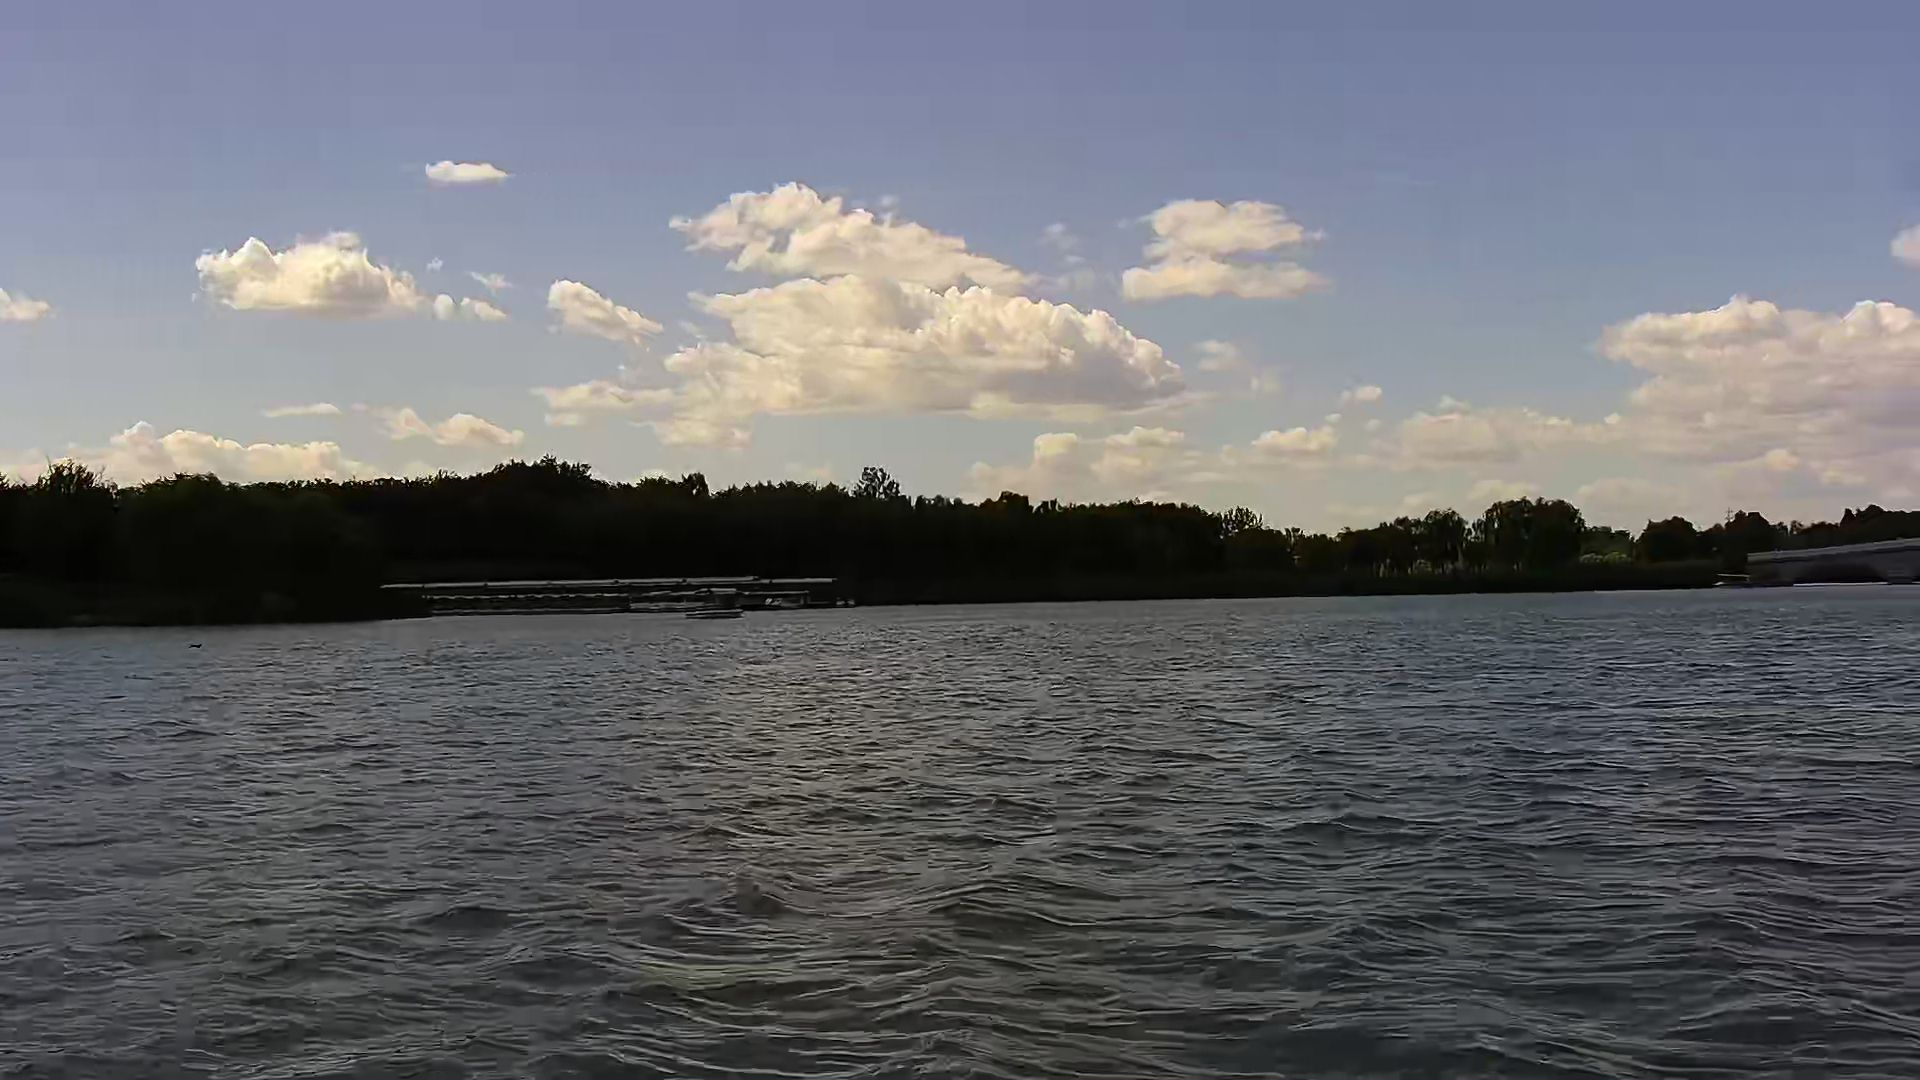boat: (680, 585, 753, 622)
bridge: (1747, 529, 1920, 591)
harbor: (376, 574, 878, 612)
